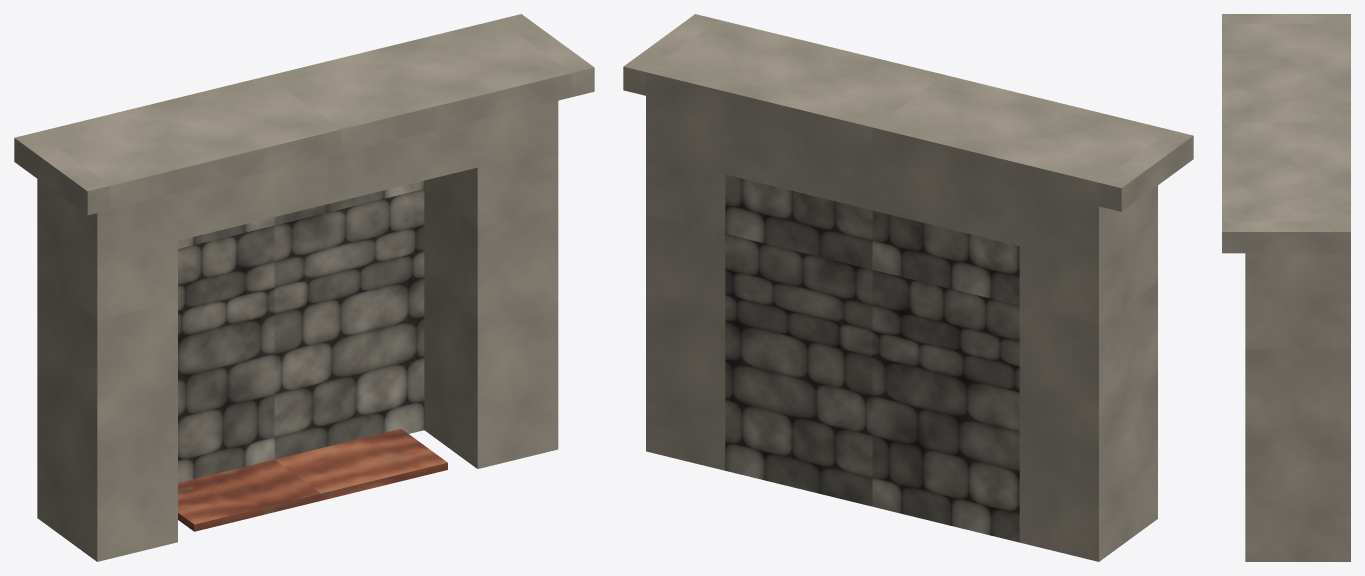
File: Fireplace_Mantel_1_LOD2.gltf
The picture shows the model from 3 angles, left to right: view 1: azimuth 30°, elevation 25°; view 2: azimuth 150°, elevation 25°; view 3: azimuth 270°, elevation 25°; orthographic projection. The views are drawn at different scales.
Parts seen in each view (by area): view 1: Fireplace_Mantel_1_LOD2; view 2: Fireplace_Mantel_1_LOD2; view 3: Fireplace_Mantel_1_LOD2.
Boxes of the visible parts, x1,y1,x2,y2 form: Fireplace_Mantel_1_LOD2: (14,14,594,561); Fireplace_Mantel_1_LOD2: (623,14,1193,561); Fireplace_Mantel_1_LOD2: (1222,14,1350,561).
Bounding box in the file's own units: 2.2 × 1.6 × 0.55.
Materials: 3 (3 with a texture image).
